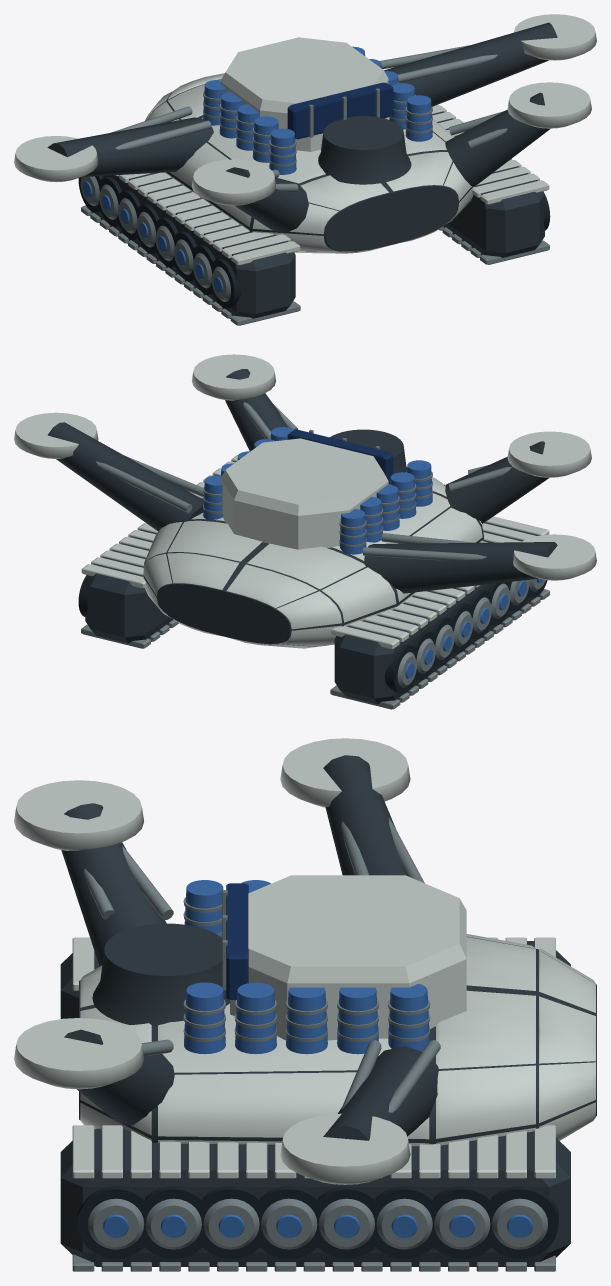
The model's file is glacier_bore.glb.
The picture shows the model from 3 angles, top to bottom: view 1: azimuth 30°, elevation 25°; view 2: azimuth 150°, elevation 25°; view 3: azimuth 270°, elevation 25°; orthographic projection. The views are drawn at different scales.
Visible parts, largest first — view 1: glacier_bore; view 2: glacier_bore; view 3: glacier_bore.
Part boxes in pixels (box(x1,y1,x2,y2)): glacier_bore: box(14, 14, 596, 325); glacier_bore: box(14, 354, 596, 709); glacier_bore: box(14, 738, 596, 1271).
Bounding box in the file's own units: 68.8 × 17.81 × 39.4.
